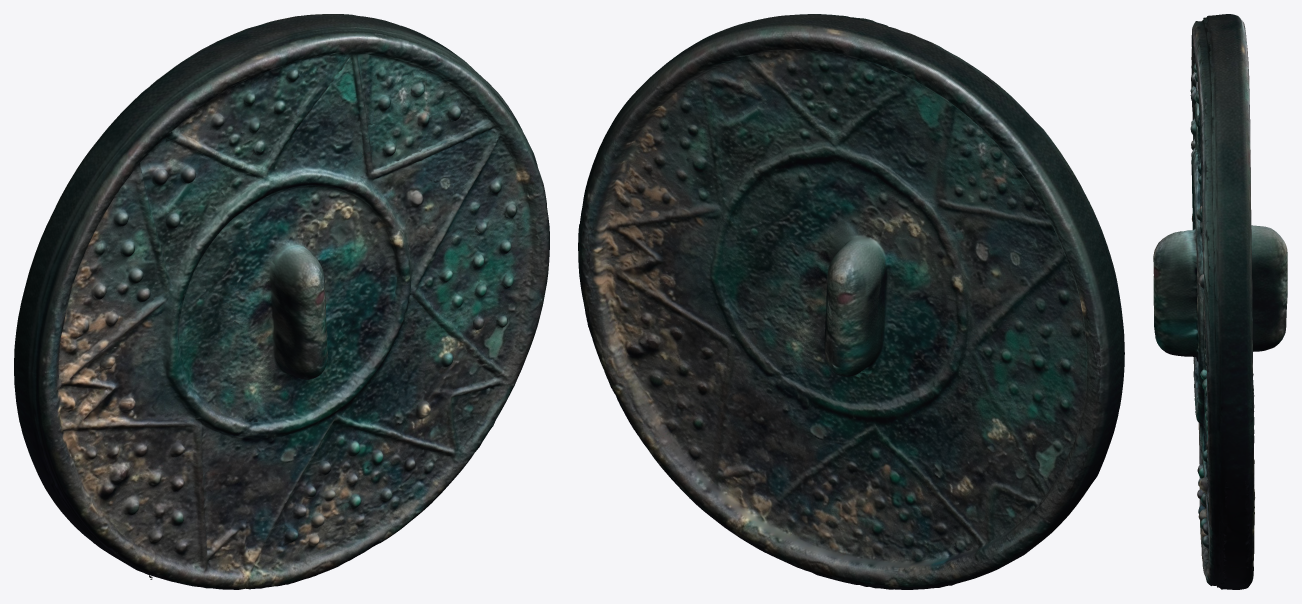
File: star-mirror.glb
3 views of the same model, side by side, from view 1: azimuth 30°, elevation 25°; view 2: azimuth 150°, elevation 25°; view 3: azimuth 270°, elevation 25° (orthographic). The views are drawn at different scales.
Size of the model in its own units: 0.075 by 0.0749 by 0.0176.
1 material, 1 textured.
